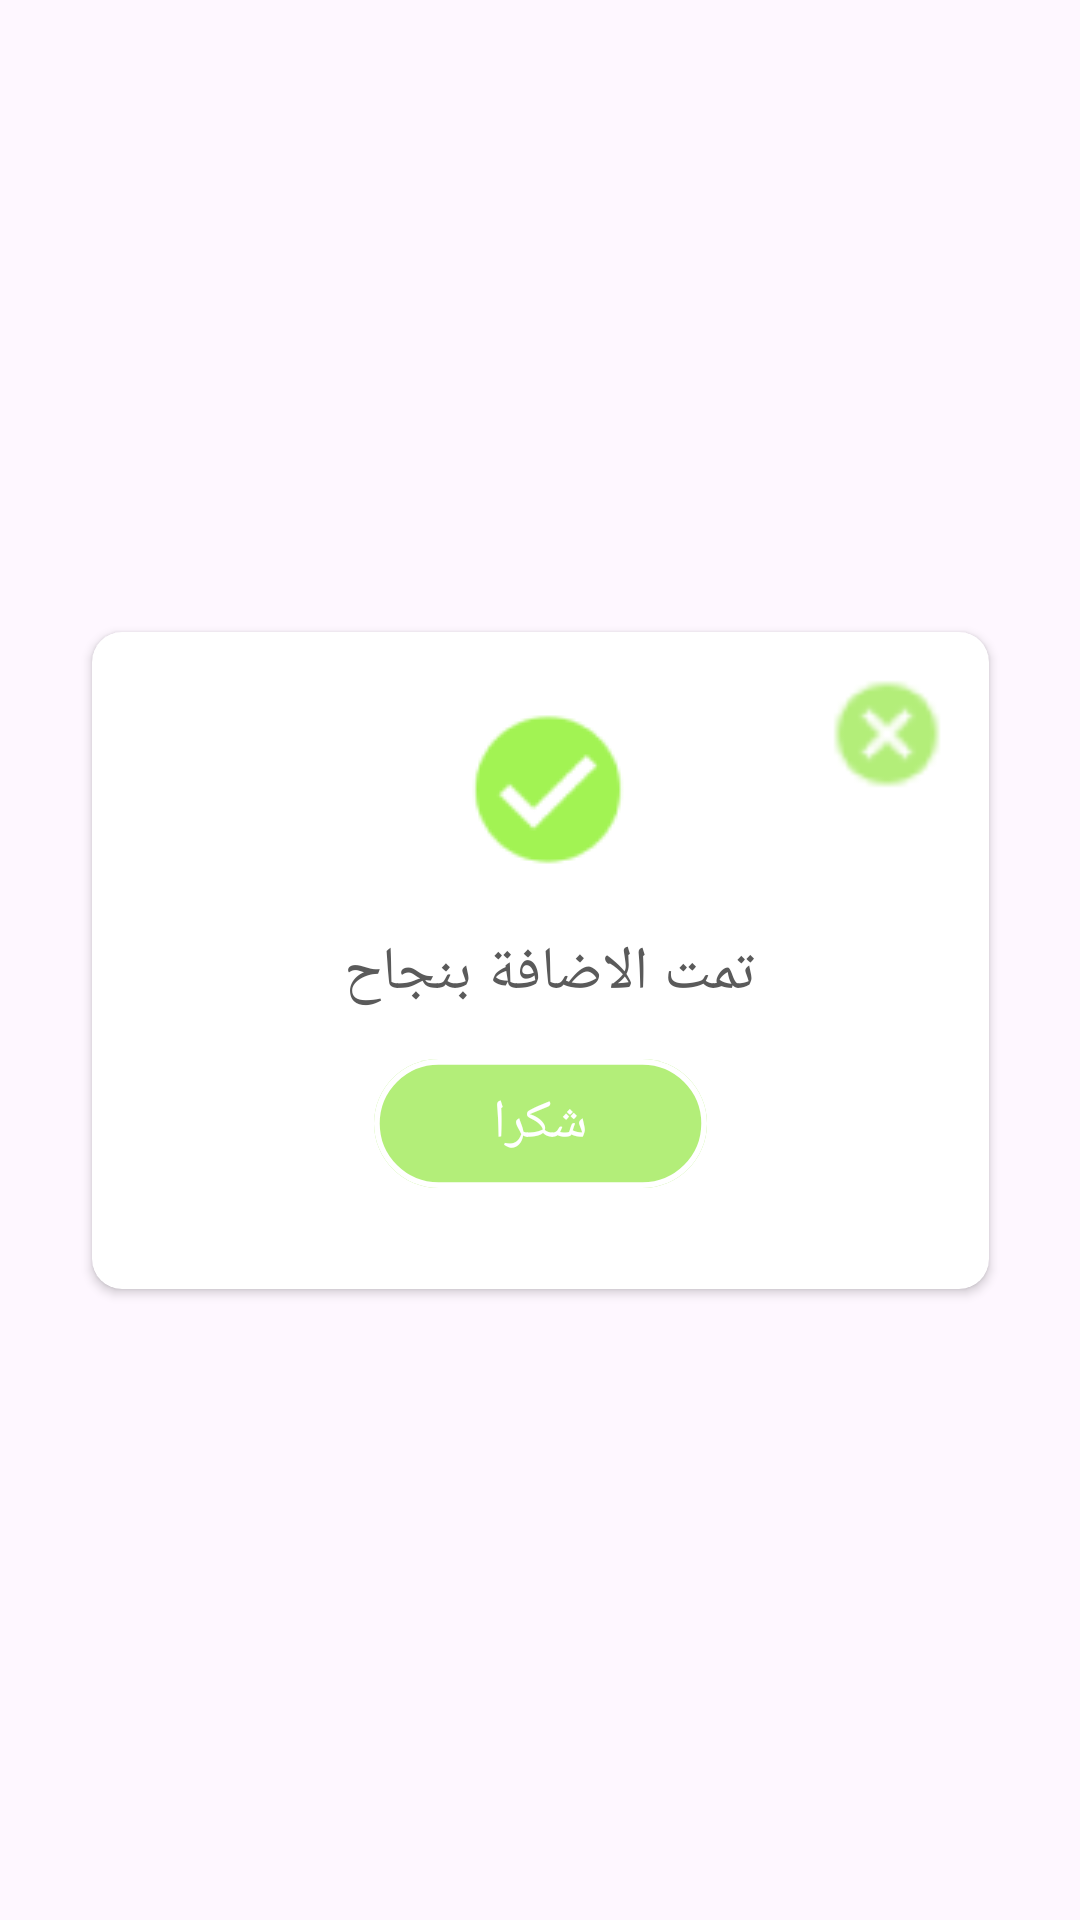

Point at icon controls on the screen. Image size 1080px×1920px, points as (x=x, y=y).
cancel: (x=887, y=734)
